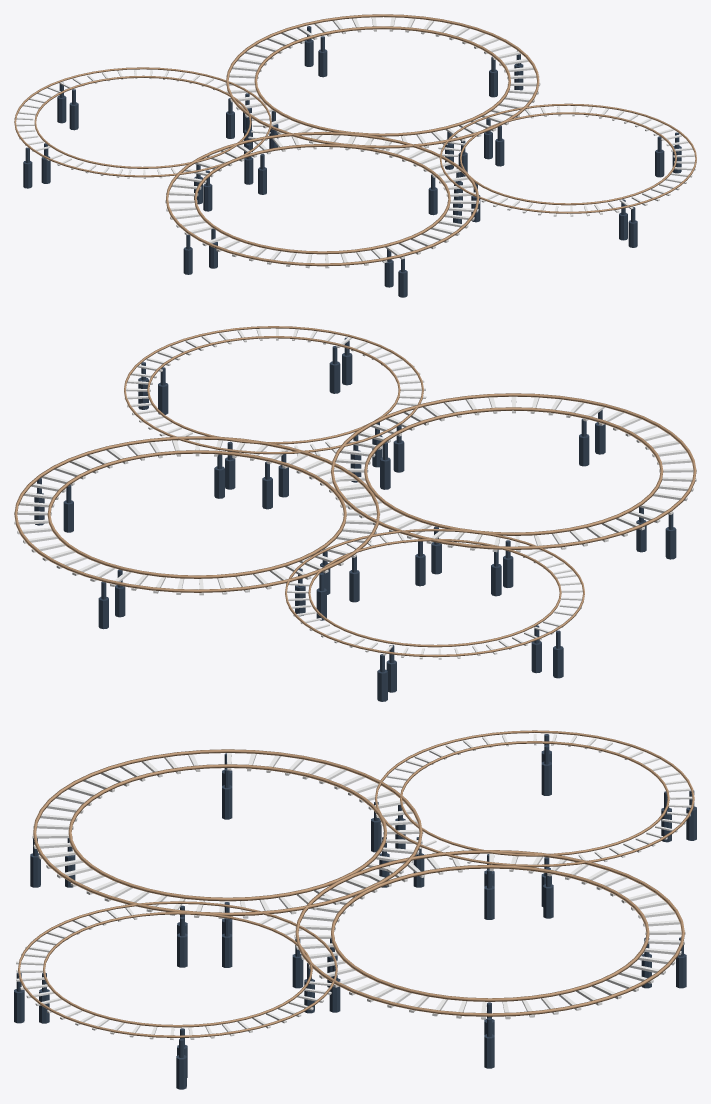
File: RollerCoaster_015.fbx
3 renders of one model, top to bottom at view 1: azimuth 30°, elevation 25°; view 2: azimuth 150°, elevation 25°; view 3: azimuth 270°, elevation 25°, orthographic. The views are drawn at different scales.
Parts seen in each view (by area): view 1: Path.043, Path.044, RailStep.042, RailStep.043, Path.041, Path.042, Columns.030, Columns.032, Columns.033, Columns.031, RailStep.040, RailStep.041; view 2: Path.044, Path.043, RailStep.042, RailStep.043, Path.042, Path.041, Columns.032, Columns.033, Columns.030, Columns.031, RailStep.040, RailStep.041; view 3: Path.044, Path.043, RailStep.043, RailStep.042, Path.041, Path.042, RailStep.040, Columns.033, Columns.032, Columns.031, Columns.030, RailStep.041.
Boxes of the visible parts, box(x1,y1,x2,y2) form: Path.043: box(166, 132, 478, 266); Path.044: box(226, 14, 539, 148); RailStep.042: box(165, 135, 479, 268); RailStep.043: box(225, 17, 540, 150); Path.041: box(439, 103, 696, 213); Path.042: box(14, 67, 271, 177); Columns.030: box(183, 143, 462, 297); Columns.032: box(23, 82, 251, 211); Columns.033: box(453, 118, 681, 247); Columns.031: box(244, 26, 523, 176); RailStep.040: box(438, 106, 696, 216); RailStep.041: box(14, 69, 271, 178); Path.044: box(14, 436, 379, 592); Path.043: box(331, 393, 696, 549); RailStep.042: box(330, 396, 696, 552); RailStep.043: box(14, 439, 380, 595); Path.042: box(285, 528, 584, 657); Path.041: box(124, 326, 423, 454); Columns.032: box(295, 540, 563, 701); Columns.033: box(138, 337, 404, 498); Columns.030: box(350, 410, 676, 586); Columns.031: box(34, 454, 359, 629); RailStep.040: box(124, 328, 426, 456); RailStep.041: box(287, 533, 582, 659); Path.044: box(295, 850, 684, 1016); Path.043: box(33, 749, 422, 916); RailStep.043: box(294, 853, 685, 1019); RailStep.042: box(32, 753, 423, 918); Path.041: box(18, 901, 337, 1037); Path.042: box(375, 730, 694, 867); RailStep.040: box(16, 907, 333, 1039); Columns.033: box(14, 905, 340, 1089); Columns.032: box(371, 734, 696, 918); Columns.031: box(292, 854, 686, 1068); Columns.030: box(30, 753, 424, 967); RailStep.041: box(381, 734, 692, 863).
Bounding box in the file's own units: 4375 × 344 × 4085.
